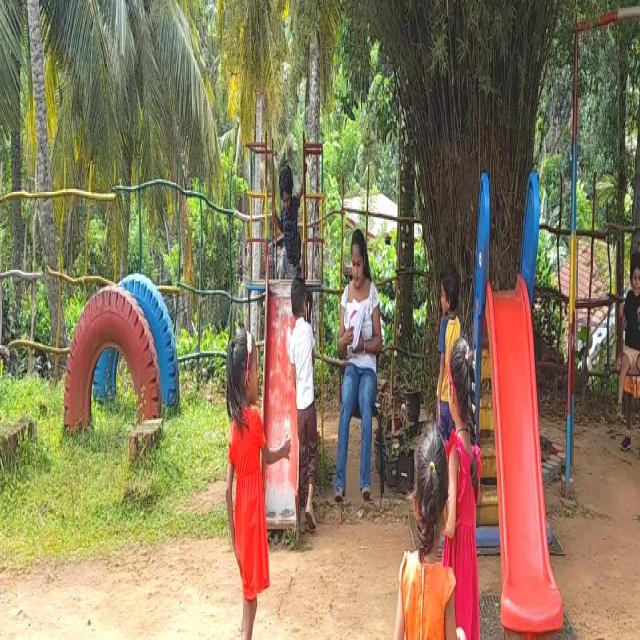adult: (335, 217, 382, 490)
child: (218, 331, 275, 640), (388, 418, 458, 640), (441, 346, 492, 640), (288, 278, 324, 526), (616, 237, 640, 443), (274, 153, 303, 268)
